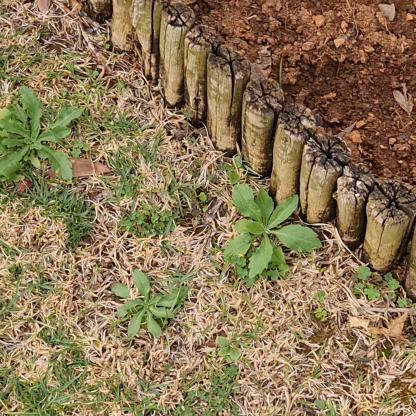Weeds: (225, 181, 323, 279), (0, 84, 84, 186), (107, 269, 184, 341), (218, 333, 243, 362)
